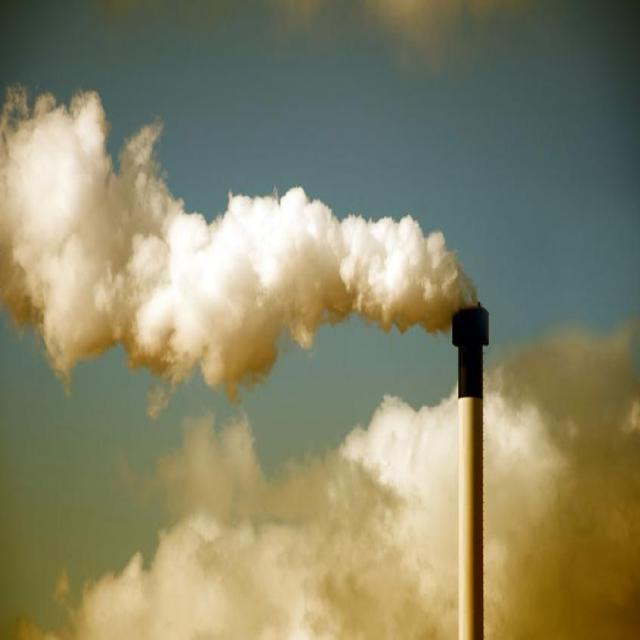Smoke: (2, 86, 476, 394)
